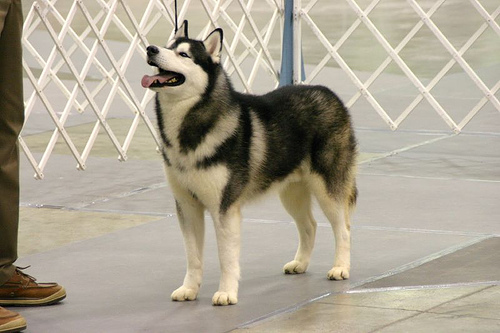dog: (141, 18, 358, 306)
